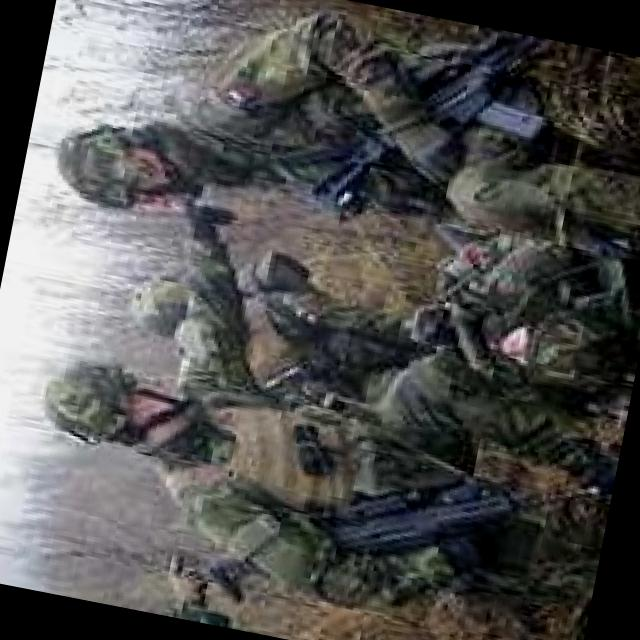long weapon: (310, 2, 602, 278), (308, 408, 616, 632)
